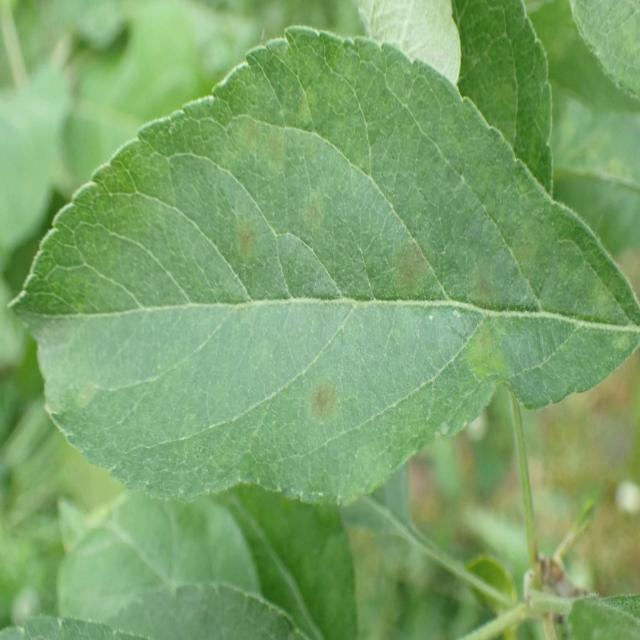scab: (40, 54, 640, 481)
